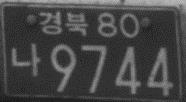0: (119, 12, 139, 37)
4: (146, 47, 173, 96), (114, 45, 140, 94)
7: (80, 43, 107, 94)
8: (96, 11, 117, 38)
9: (49, 42, 77, 92)
경북_O: (36, 10, 89, 36)
나: (10, 42, 40, 76)
